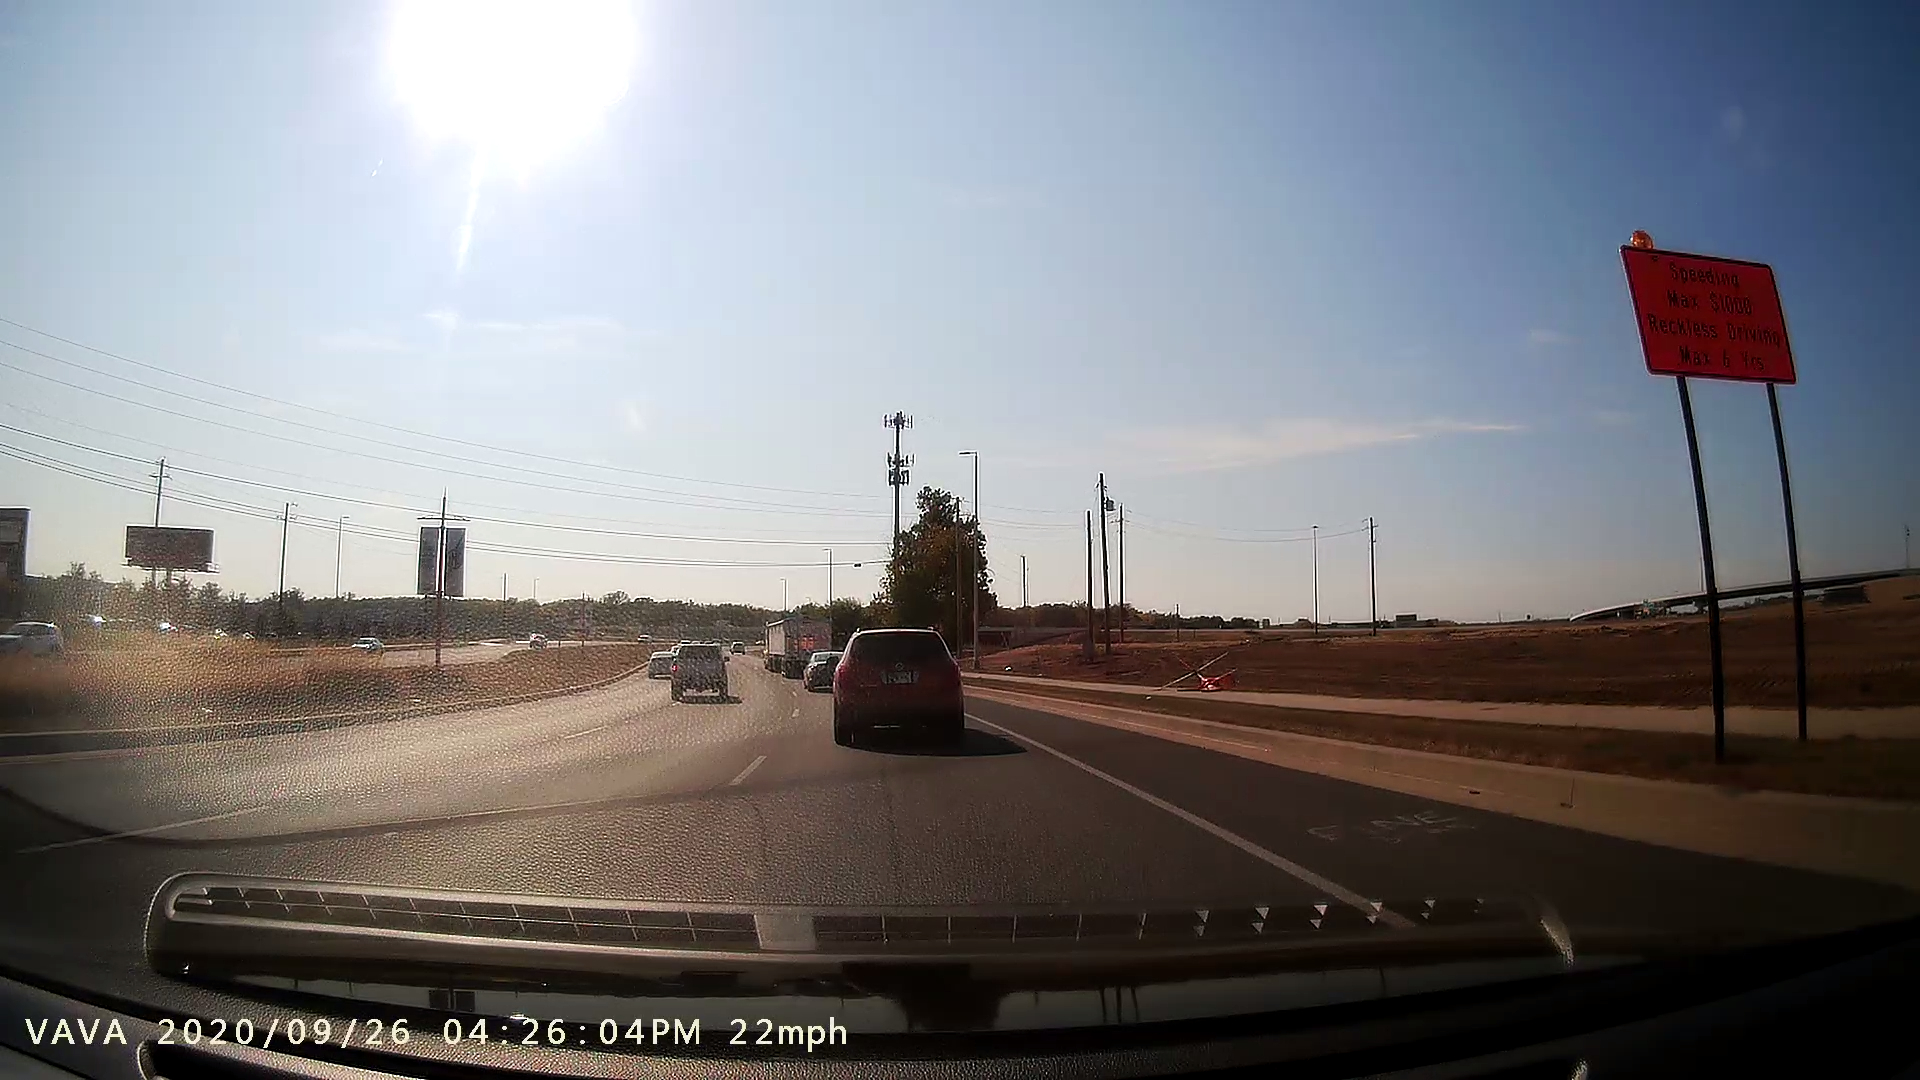temperary_sign: (1606, 215, 1832, 775)
